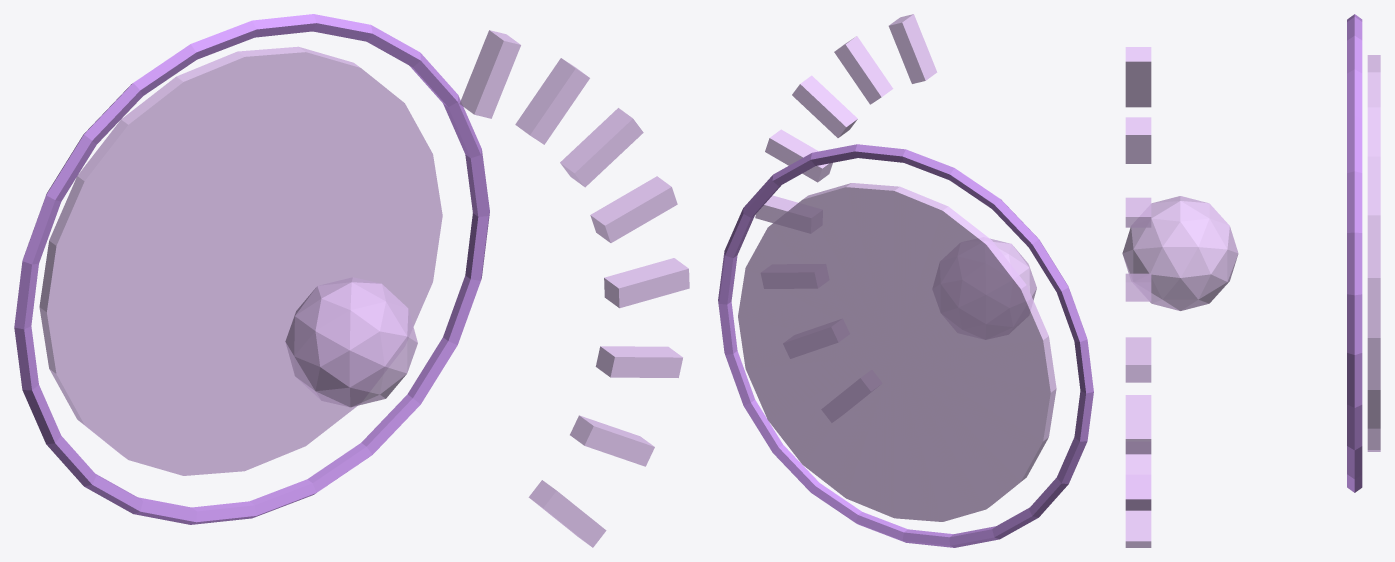
Rendered from 01_class_special_attack_vfx.glb.
3 renders of one model, left to right at view 1: azimuth 30°, elevation 25°; view 2: azimuth 150°, elevation 25°; view 3: azimuth 270°, elevation 25°, orthographic. The views are drawn at different scales.
Visible parts, largest first — view 1: ability_cast_disc, ability_outer_ring, class_energy_core, attack_flow_arc_seg_7, attack_flow_arc_seg_5, attack_flow_arc_seg_6, attack_flow_arc_seg_4, attack_flow_arc_seg_3, attack_flow_arc_seg_2, attack_flow_arc_seg_1, attack_flow_arc_seg_0; view 2: ability_cast_disc, ability_outer_ring, attack_flow_arc_seg_7, attack_flow_arc_seg_5, attack_flow_arc_seg_6, attack_flow_arc_seg_4, class_energy_core, attack_flow_arc_seg_3; view 3: class_energy_core, ability_outer_ring, ability_cast_disc, attack_flow_arc_seg_7, attack_flow_arc_seg_2, attack_flow_arc_seg_1, attack_flow_arc_seg_6, attack_flow_arc_seg_3, attack_flow_arc_seg_0, attack_flow_arc_seg_5, attack_flow_arc_seg_4.
Part boxes in pixels (x1,y1,x2,y2): ability_cast_disc: [39, 46, 442, 475]; ability_outer_ring: [14, 14, 489, 524]; class_energy_core: [285, 277, 417, 407]; attack_flow_arc_seg_7: [459, 30, 520, 118]; attack_flow_arc_seg_5: [560, 108, 643, 187]; attack_flow_arc_seg_6: [515, 58, 589, 144]; attack_flow_arc_seg_4: [590, 176, 677, 242]; attack_flow_arc_seg_3: [604, 258, 689, 308]; attack_flow_arc_seg_2: [595, 346, 682, 377]; attack_flow_arc_seg_1: [570, 415, 654, 466]; attack_flow_arc_seg_0: [528, 480, 606, 547]; ability_cast_disc: [738, 183, 1056, 521]; ability_outer_ring: [718, 144, 1093, 547]; attack_flow_arc_seg_7: [888, 14, 937, 83]; attack_flow_arc_seg_5: [792, 75, 857, 137]; attack_flow_arc_seg_6: [834, 36, 893, 104]; attack_flow_arc_seg_4: [765, 129, 832, 182]; class_energy_core: [990, 238, 1036, 300]; attack_flow_arc_seg_3: [755, 195, 798, 222]; class_energy_core: [1122, 196, 1238, 310]; ability_outer_ring: [1347, 14, 1362, 492]; ability_cast_disc: [1367, 55, 1380, 451]; attack_flow_arc_seg_7: [1125, 47, 1151, 107]; attack_flow_arc_seg_2: [1125, 395, 1151, 454]; attack_flow_arc_seg_1: [1125, 454, 1151, 510]; attack_flow_arc_seg_6: [1125, 117, 1151, 163]; attack_flow_arc_seg_3: [1125, 337, 1151, 382]; attack_flow_arc_seg_0: [1125, 510, 1151, 547]; attack_flow_arc_seg_5: [1125, 197, 1151, 227]; attack_flow_arc_seg_4: [1125, 273, 1151, 301].
Size of the model in its own units: 1.71 by 1.63 by 0.8.
